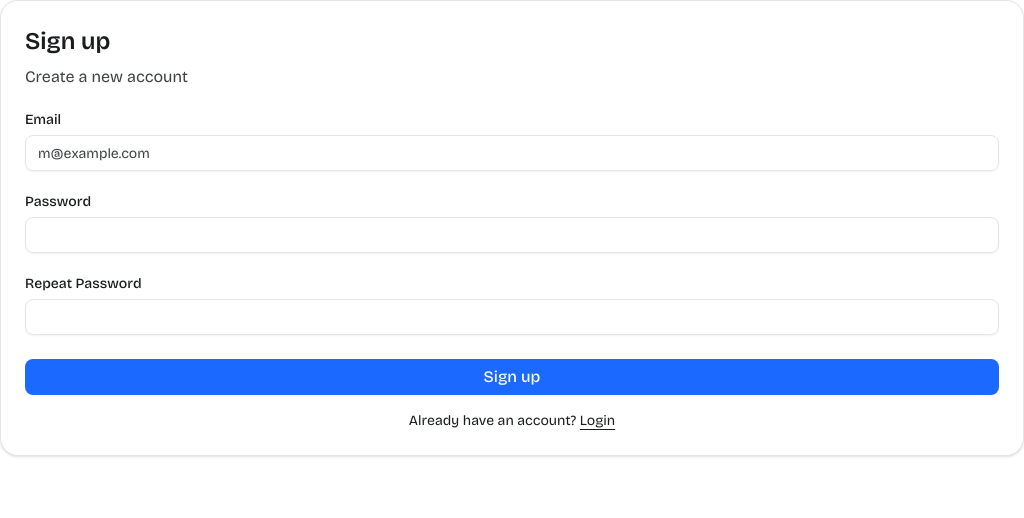
Test: SignUpForm › shows error when passwords do not match
Type "test@example.com" into the field labelled "Email" at (512, 153), box [25,135,999,171]
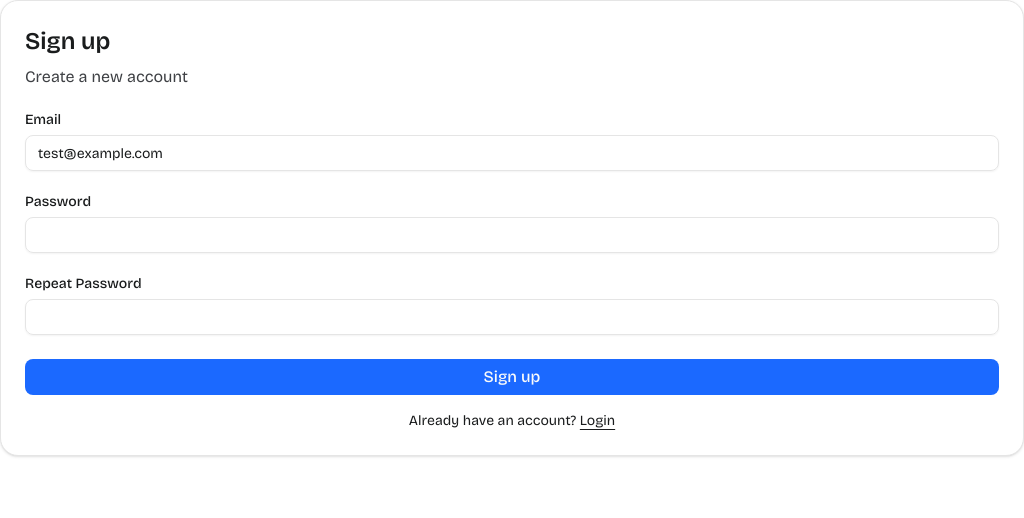
Type "password123" into the password field labelled "Password" at (512, 235), box [25,217,999,253]
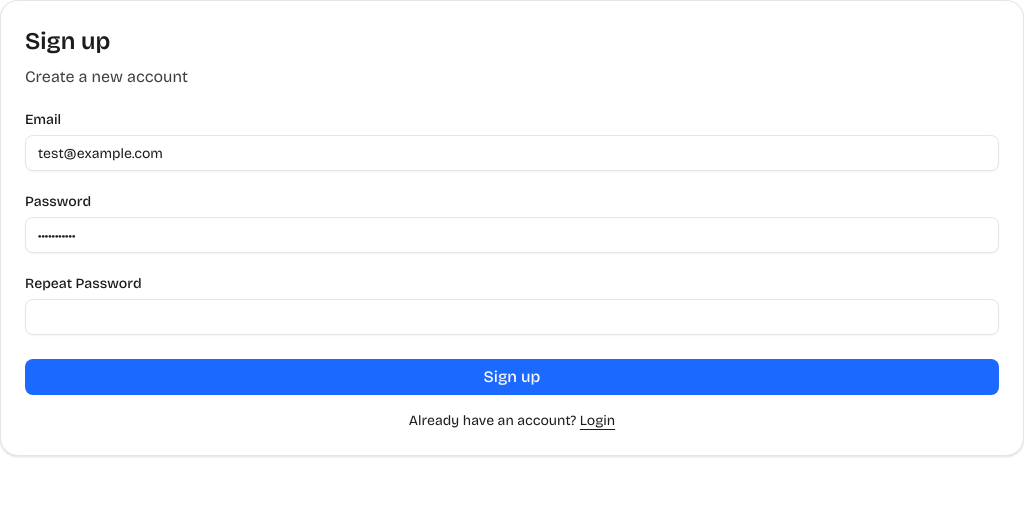
Type "differentpassword" into the password field labelled "Repeat Password" at (512, 317), box [25,299,999,335]
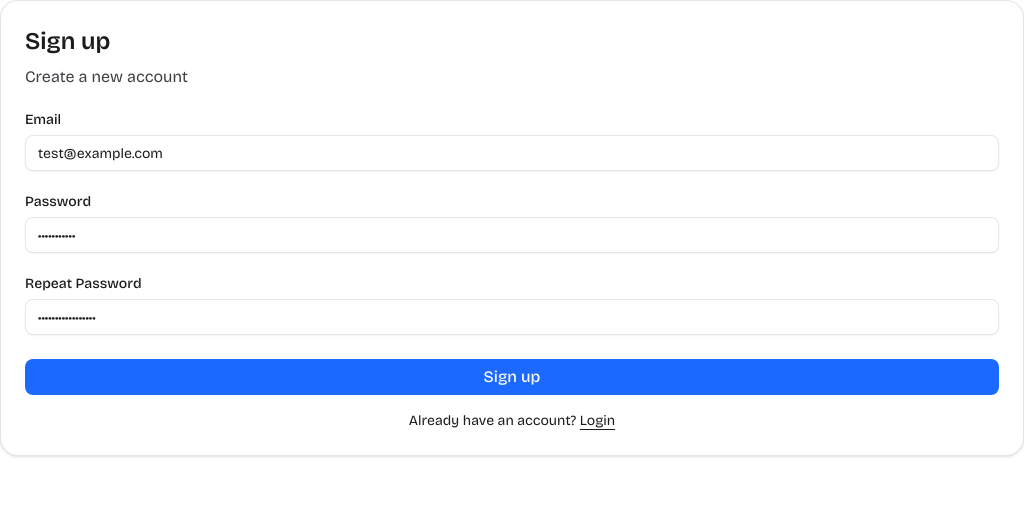
Click the button "Sign up" at (512, 377), box [25,359,999,395]
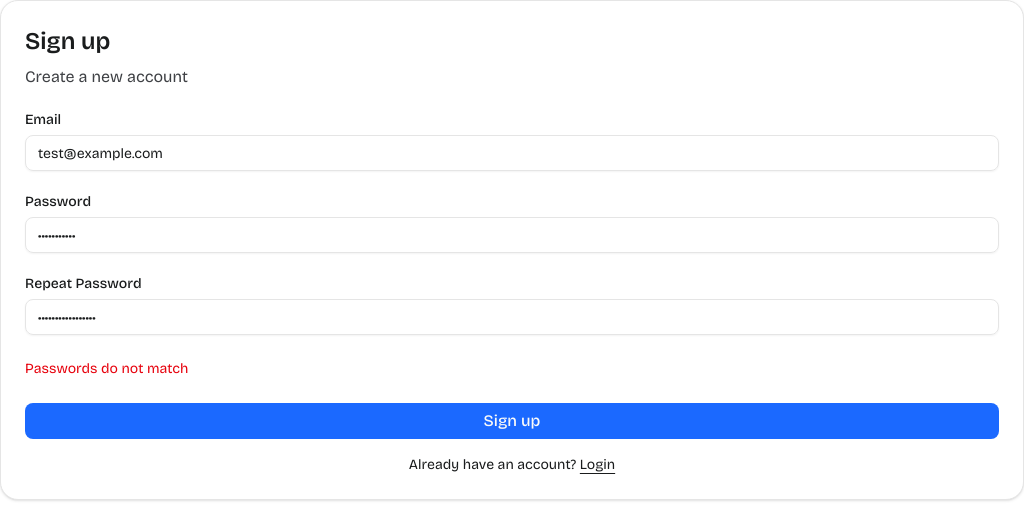
Expected: the text "Passwords do not match" is shown, [25,360,188,377]
